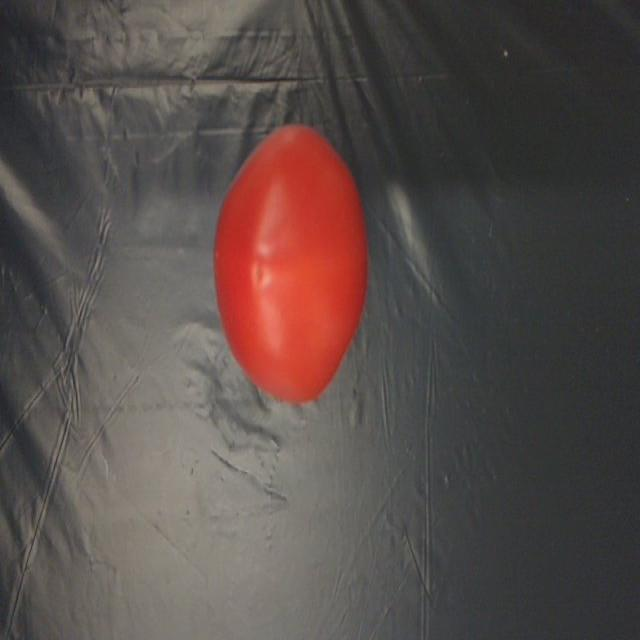kirmizi: (218, 99, 366, 417)
